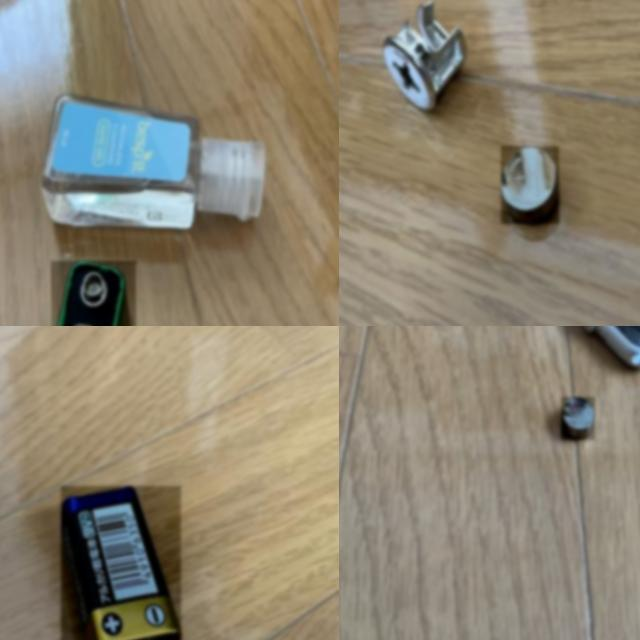9V: (60, 486, 181, 640), (51, 261, 136, 326)
